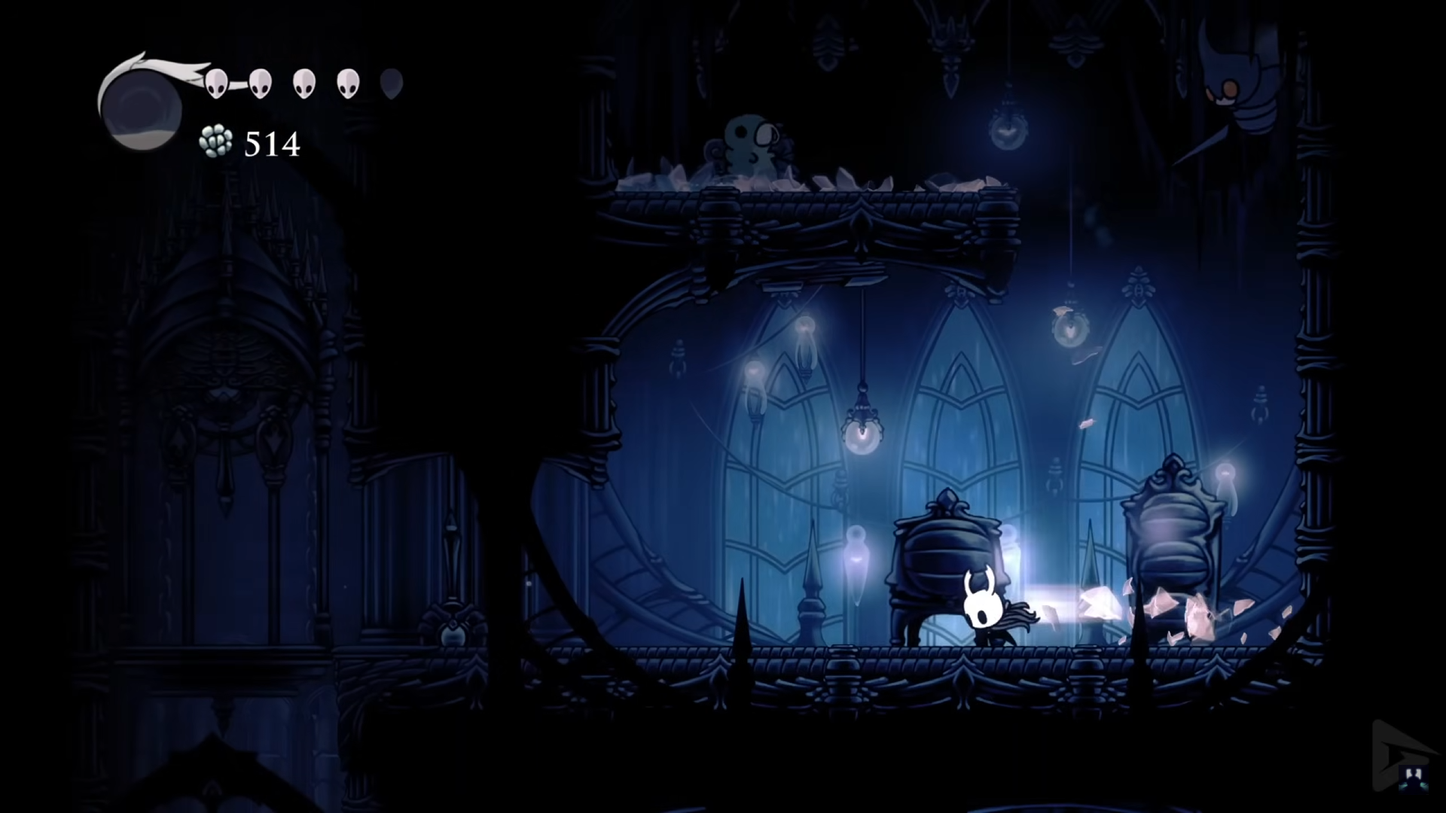HK: (957, 562, 1042, 650)
